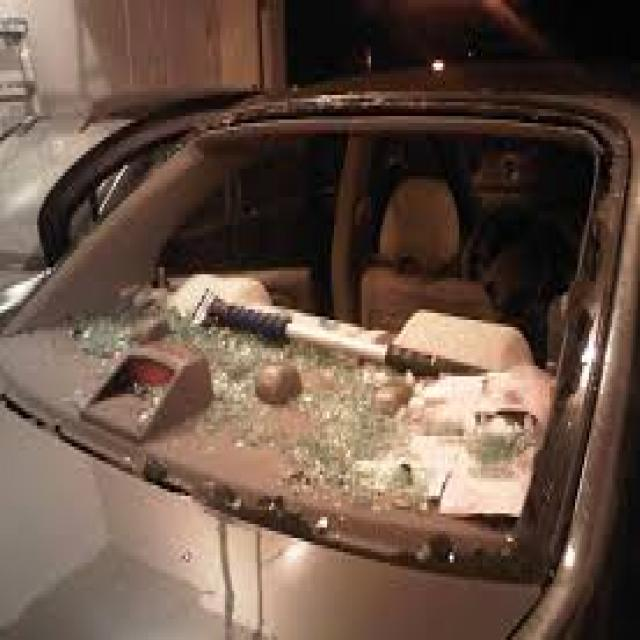moderate: (5, 56, 626, 640)
